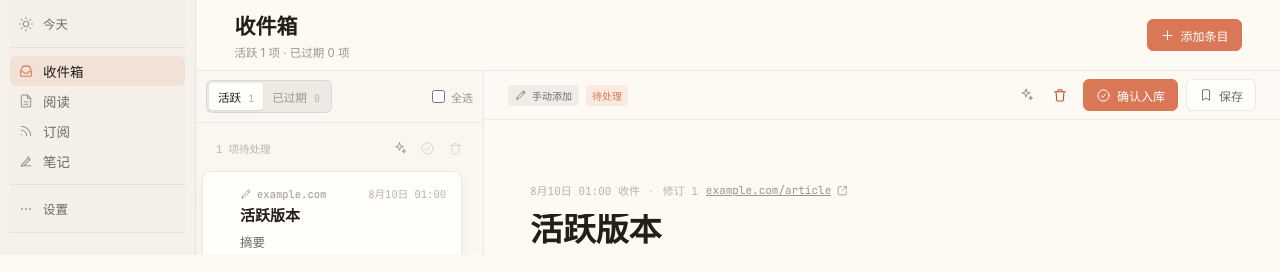
InboxSurface › evicts an active cache row when an authoritative expired page rehomes its ID
Click the tab with aria-label "已过期 (0)" at {"x": 296, "y": 96}, box [263, 83, 329, 110]
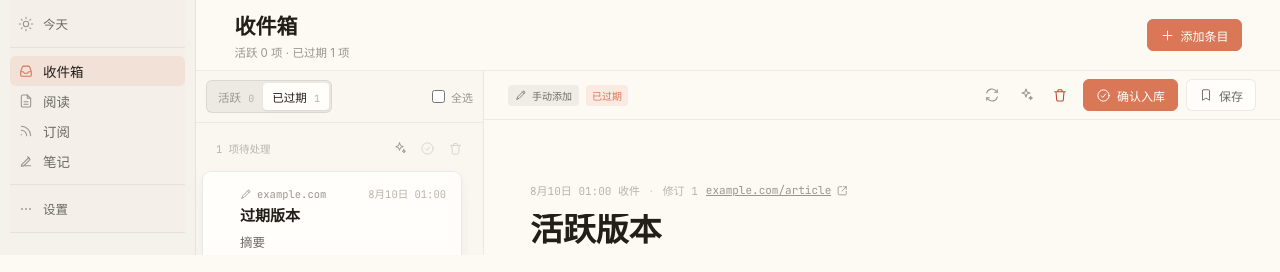
Now the button "example.com 8月10日 01:00 过期版本 摘要 已过期 #阅读" is shown, box [240, 186, 446, 255]
Click the tab with aria-label "活跃 (0)" at {"x": 236, "y": 96}, box [209, 83, 263, 110]
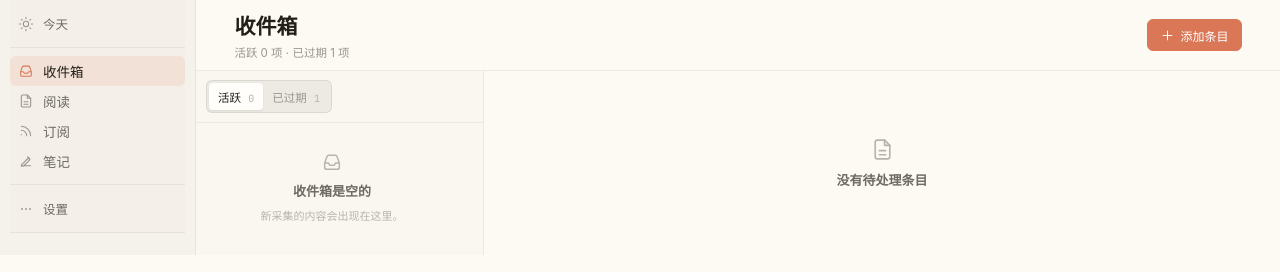
Now the tab with aria-label "活跃 (0)" is shown, box [209, 83, 263, 110]
Now the text "收件箱是空的" is shown, box [293, 181, 371, 200]
Now the button "确认入库" is gone
